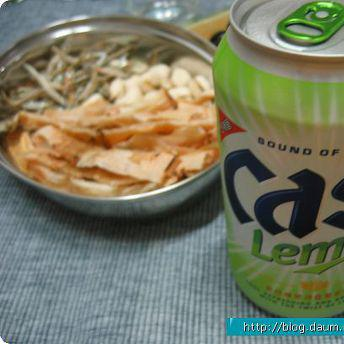beer: (205, 2, 344, 317)
